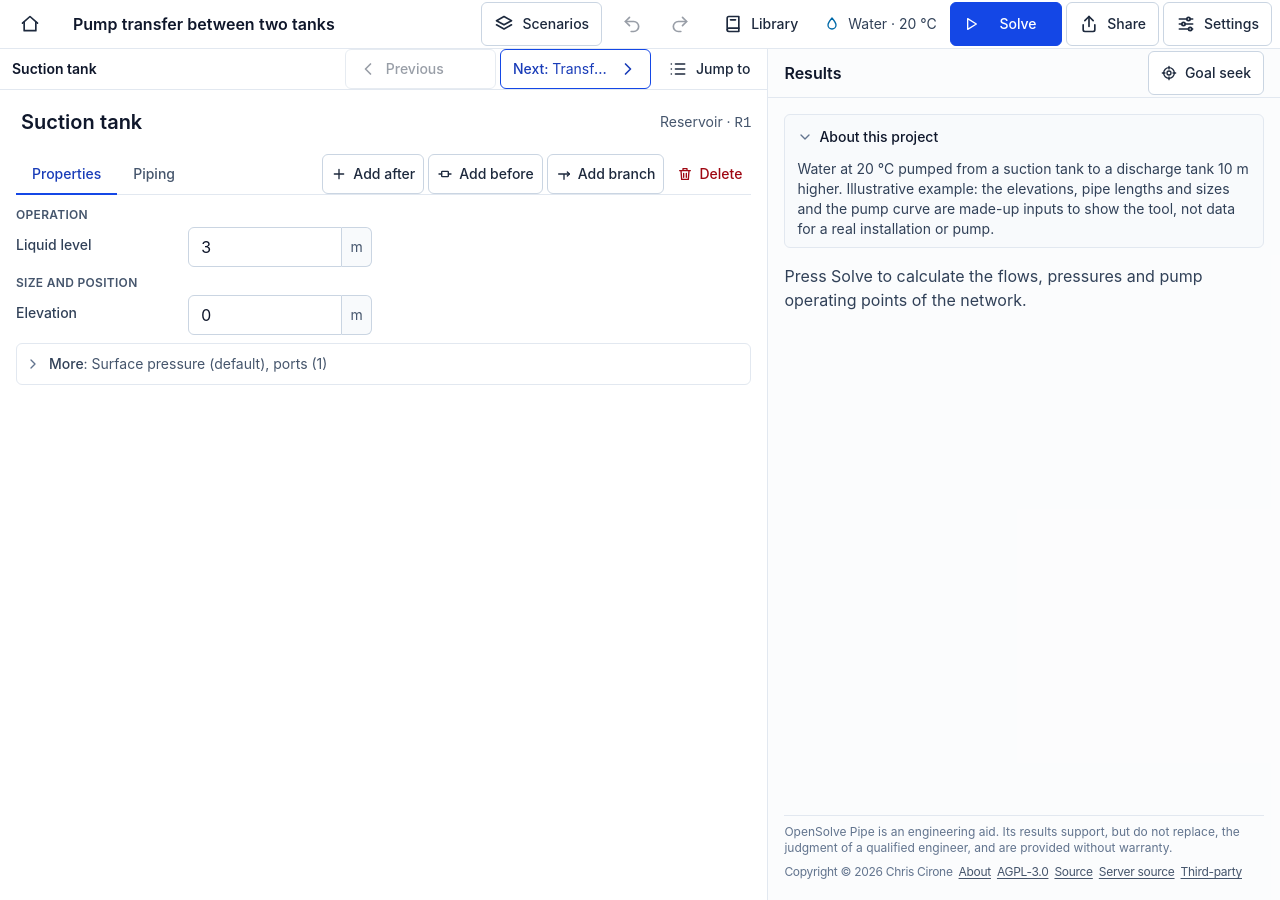
Test: running a goal seek › shows the met result, moves the focus to it from Run, and announces the values
Click the button "Goal seek" at (1206, 73), box [1148,51,1264,95]
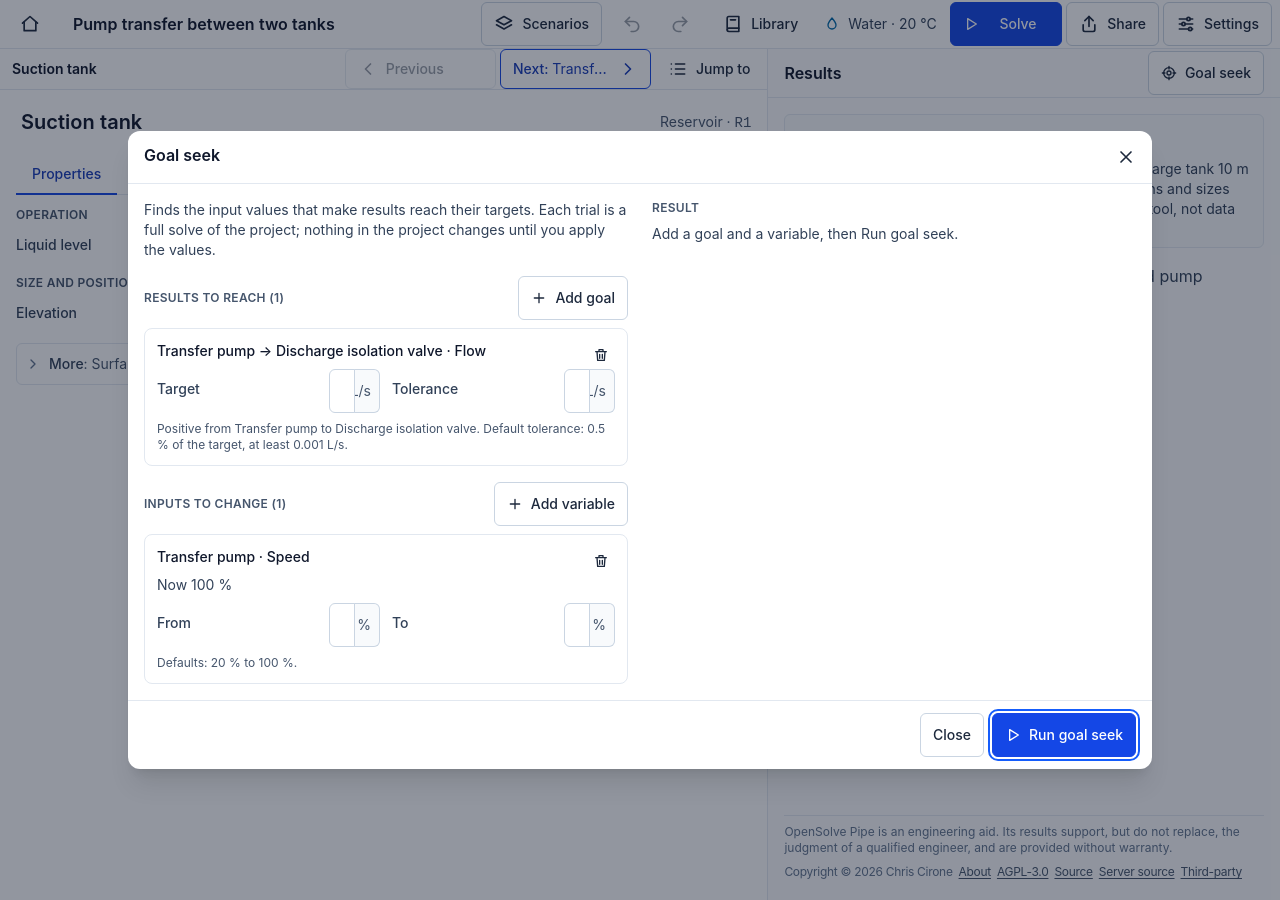
Click the button "Run goal seek" at (1064, 735), box [992,713,1136,757]
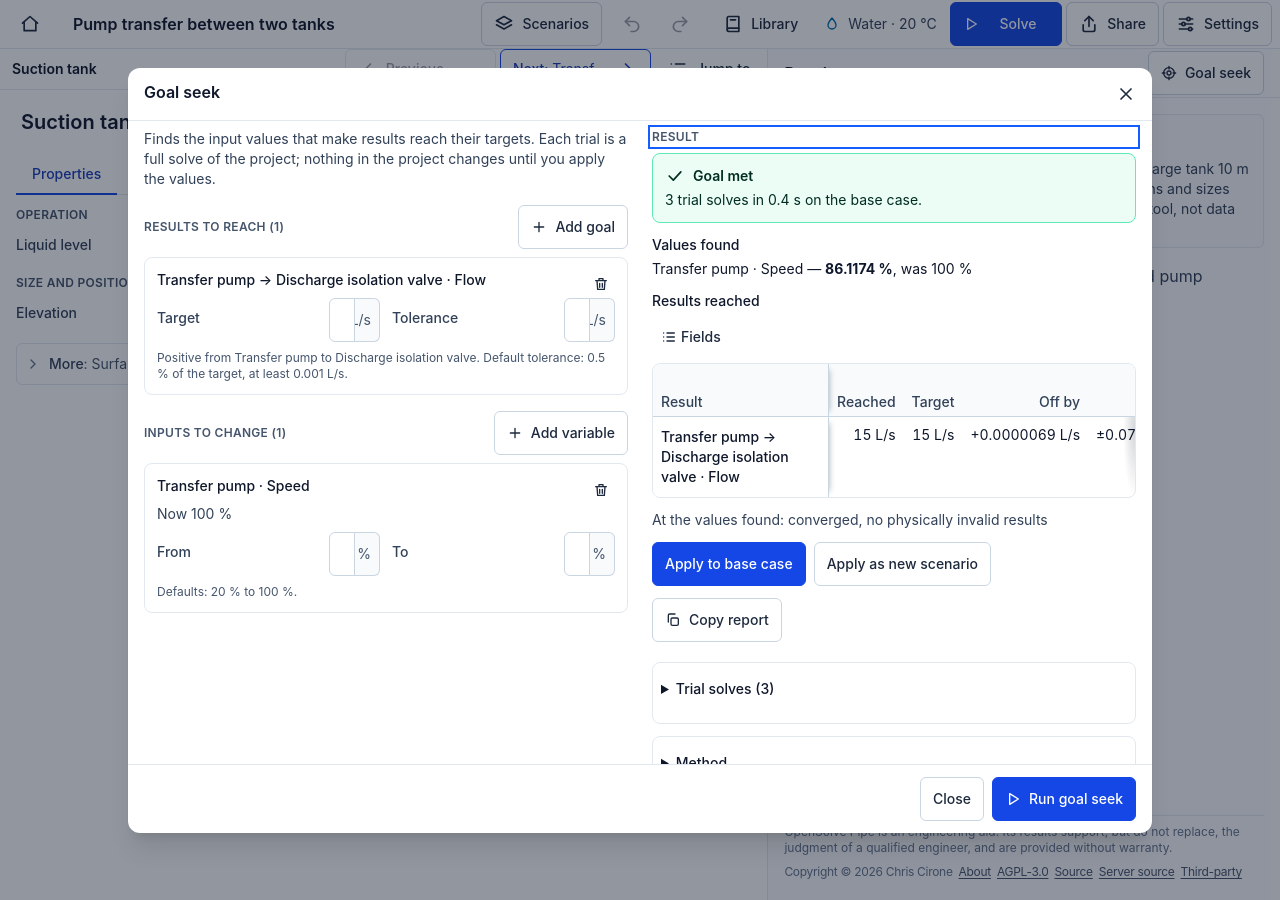
Expected: the text "Goal met" is shown, [665,166,753,186]
Expected: the text "3 trial solves in 0.4 s on the base case." is shown, [665,190,922,208]
Expected: the table named "Results reached" is shown, [653,364,1136,496]
